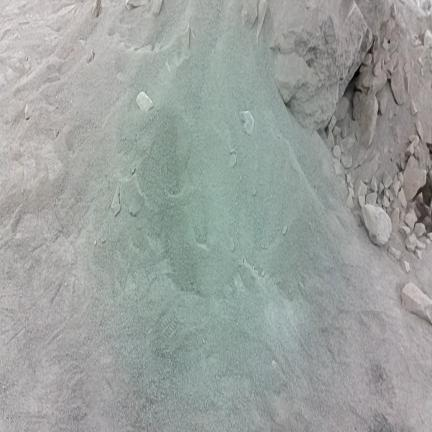Rock: (271, 0, 372, 128), (275, 53, 310, 102), (354, 92, 378, 147), (362, 205, 391, 245), (402, 283, 431, 323), (404, 156, 426, 200), (391, 61, 406, 105), (257, 0, 267, 42), (242, 0, 257, 27), (136, 92, 153, 112), (240, 111, 254, 135), (111, 183, 121, 216), (335, 97, 349, 120), (129, 193, 141, 217), (181, 23, 189, 56), (405, 209, 417, 229), (377, 92, 387, 114), (355, 179, 367, 197), (406, 234, 417, 252), (126, 0, 148, 9), (391, 208, 399, 231), (391, 176, 400, 196), (398, 189, 407, 208), (152, 0, 162, 17), (92, 0, 101, 18), (414, 223, 425, 237), (328, 116, 337, 132), (373, 61, 382, 77), (389, 247, 400, 260), (341, 155, 352, 168), (366, 192, 377, 205), (416, 120, 423, 140), (383, 173, 392, 188), (424, 30, 431, 49), (333, 145, 341, 161), (334, 158, 341, 174), (363, 53, 372, 65), (400, 225, 410, 235), (382, 196, 390, 208), (87, 50, 94, 63), (358, 195, 365, 208), (411, 100, 417, 115), (371, 176, 377, 191), (24, 104, 29, 120), (347, 195, 353, 208), (230, 154, 236, 167), (415, 249, 422, 260), (333, 126, 341, 135), (417, 240, 425, 249), (398, 172, 403, 186), (404, 261, 410, 272), (230, 238, 235, 251), (379, 183, 384, 195), (383, 39, 388, 50), (349, 187, 354, 197), (252, 186, 256, 196), (283, 225, 287, 234), (427, 233, 431, 241), (132, 168, 135, 174)
